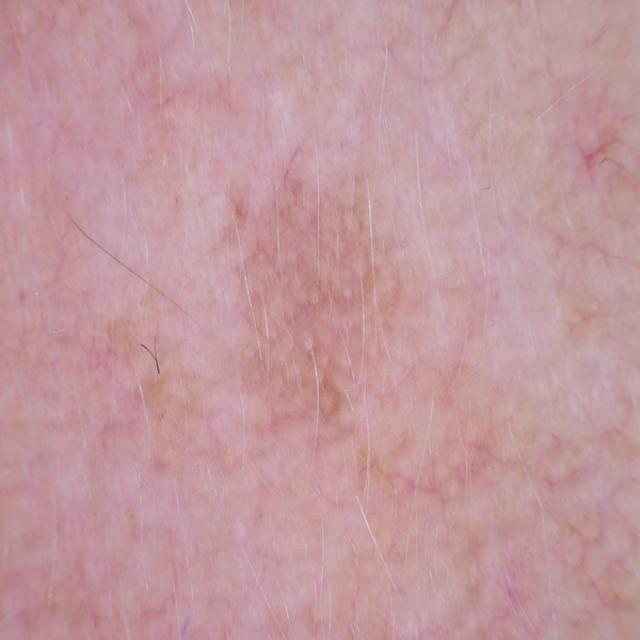Skin-Cancer Pigmented benign keratosis: (5, 8, 632, 640)
